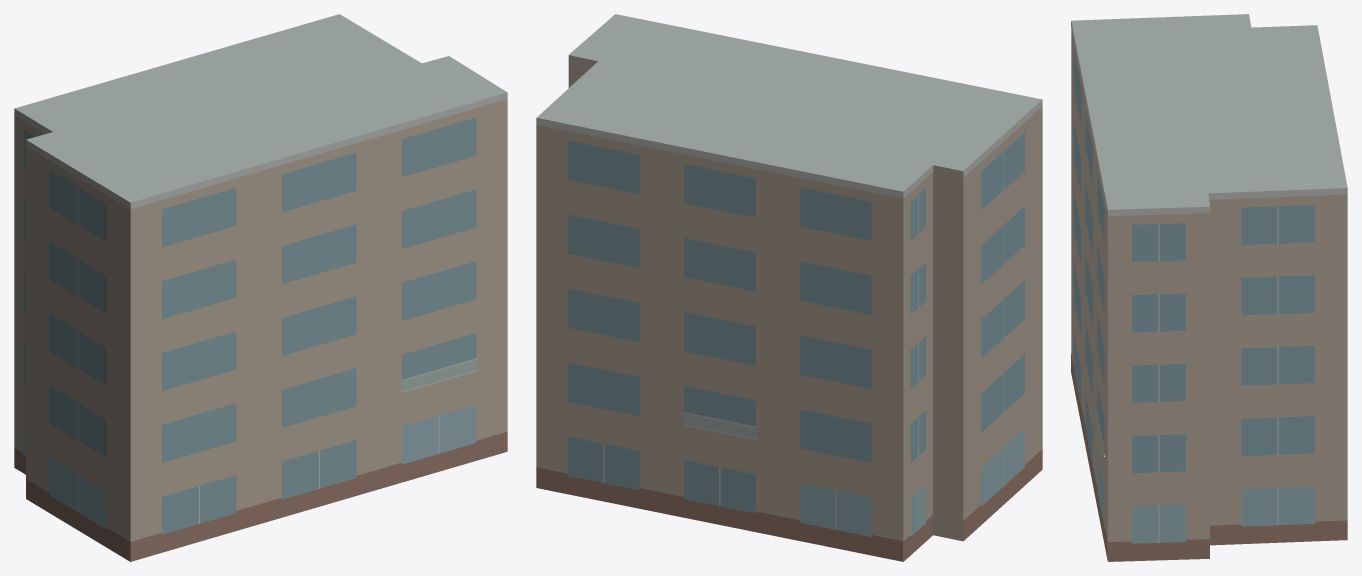
Rendered from survey-upis-32725687.glb.
3 views of the same model, side by side, from view 1: azimuth 30°, elevation 25°; view 2: azimuth 150°, elevation 25°; view 3: azimuth 270°, elevation 25° (orthographic). The views are drawn at different scales.
Parts seen in each view (by area): view 1: survey-upis-32725687.tmp; view 2: survey-upis-32725687.tmp; view 3: survey-upis-32725687.tmp.
Part boxes in pixels (<box>): survey-upis-32725687.tmp: <box>14,14,507,561</box>; survey-upis-32725687.tmp: <box>536,14,1042,561</box>; survey-upis-32725687.tmp: <box>1071,14,1347,561</box>.
Bounding box in the file's own units: 15.81 × 13.24 × 9.43.
